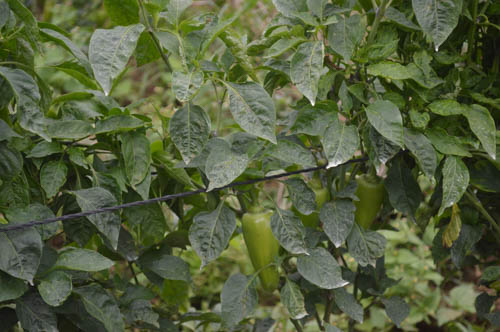ChiliPepper: (244, 209, 283, 291), (295, 185, 332, 233), (356, 177, 386, 231)
